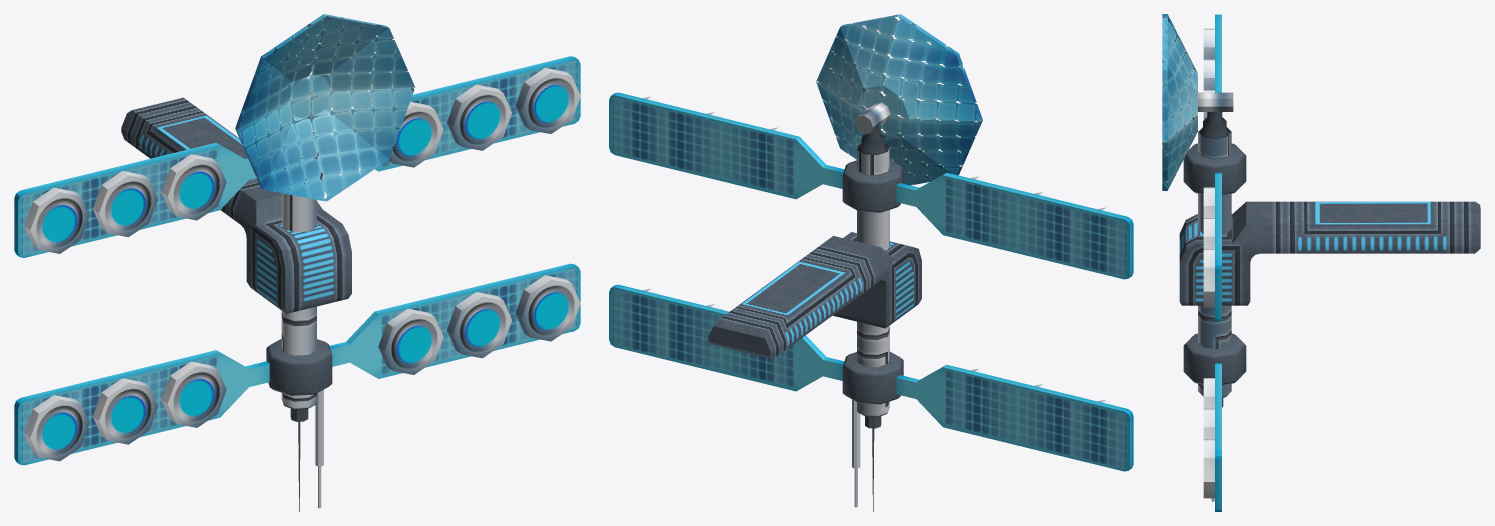
File: Remote_Control_Satellite_1.fbx
3 views of the same model, side by side, from view 1: azimuth 30°, elevation 25°; view 2: azimuth 150°, elevation 25°; view 3: azimuth 270°, elevation 25° (orthographic). The views are drawn at different scales.
Visible parts, largest first — view 1: Side_Wing (×4), Power_gen, Bridge, power_cell_1 (×4), power_cell_2 (×4), power_cell_3 (×4), Base, Lower_Connector, Antena; view 2: Side_Wing (×4), Power_gen, Bridge, Base, Lower_Connector, Upper_connector, Power_Gen_pivot_holder, Antena; view 3: Bridge, Power_gen, Base, Side_Wing (×3), Lower_Connector, Upper_connector, power_cell_1 (×3), power_cell_2 (×3), power_cell_3 (×2), Power_Gen_pivot_holder.
Boxes of the visible parts, bbox=[...] form: Side_Wing (×4): bbox=[14, 56, 580, 465]; Power_gen: bbox=[235, 14, 415, 201]; Bridge: bbox=[121, 97, 351, 313]; power_cell_1 (×4): bbox=[24, 68, 580, 461]; power_cell_2 (×4): bbox=[93, 84, 511, 444]; power_cell_3 (×4): bbox=[161, 101, 443, 427]; Base: bbox=[281, 97, 316, 511]; Lower_Connector: bbox=[266, 339, 332, 395]; Antena: bbox=[315, 389, 323, 508]; Side_Wing (×4): bbox=[609, 92, 1133, 471]; Power_gen: bbox=[816, 14, 982, 185]; Bridge: bbox=[708, 232, 921, 359]; Base: bbox=[857, 126, 889, 511]; Lower_Connector: bbox=[842, 351, 903, 404]; Upper_connector: bbox=[842, 160, 903, 212]; Power_Gen_pivot_holder: bbox=[855, 102, 890, 134]; Antena: bbox=[852, 399, 860, 507]; Bridge: bbox=[1179, 201, 1480, 305]; Power_gen: bbox=[1162, 14, 1197, 190]; Base: bbox=[1198, 112, 1231, 407]; Side_Wing (×3): bbox=[1215, 14, 1221, 511]; Lower_Connector: bbox=[1183, 333, 1246, 385]; Upper_connector: bbox=[1183, 143, 1246, 195]; power_cell_1 (×3): bbox=[1203, 28, 1214, 498]; power_cell_2 (×3): bbox=[1203, 59, 1214, 439]; power_cell_3 (×2): bbox=[1203, 187, 1214, 408]; Power_Gen_pivot_holder: bbox=[1196, 92, 1233, 111].
Bounding box in the file's own units: 28.53 × 25.05 × 15.2.
Materials: 2 (1 with a texture image).
